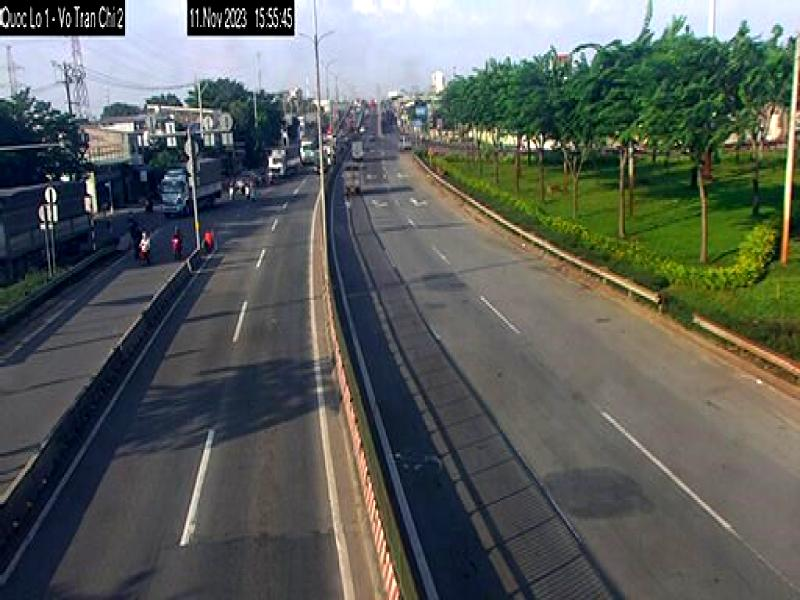truck: (159, 156, 225, 218)
